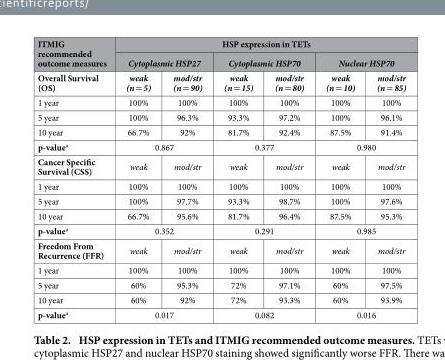table: (36, 37, 405, 320)
table column: (36, 37, 115, 320), (161, 37, 212, 320), (212, 37, 263, 320), (263, 37, 314, 320), (314, 37, 365, 320), (115, 37, 161, 320), (365, 37, 405, 320)
table column header: (36, 37, 405, 94)
table row: (36, 69, 405, 94), (36, 153, 405, 178), (36, 237, 405, 262), (36, 52, 405, 69), (36, 37, 405, 52), (36, 94, 405, 109), (36, 109, 405, 124), (36, 138, 405, 153), (36, 178, 405, 193), (36, 193, 405, 208), (36, 222, 405, 237), (36, 262, 405, 277), (36, 277, 405, 292), (36, 124, 405, 138), (36, 208, 405, 222), (36, 292, 405, 306), (36, 306, 405, 320)
table spanning cell: (36, 37, 115, 94), (115, 37, 405, 52), (212, 52, 314, 69), (115, 52, 212, 69), (314, 52, 405, 69), (212, 138, 314, 153), (212, 222, 314, 237), (115, 138, 212, 153), (115, 222, 212, 237), (212, 306, 314, 320), (314, 138, 405, 153), (314, 222, 405, 237), (115, 306, 212, 320), (314, 306, 405, 320)
